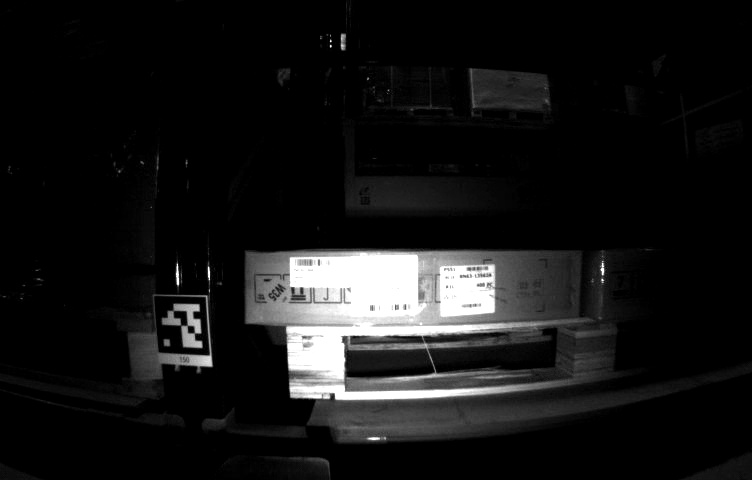True Barcode: (439, 266, 494, 314)
